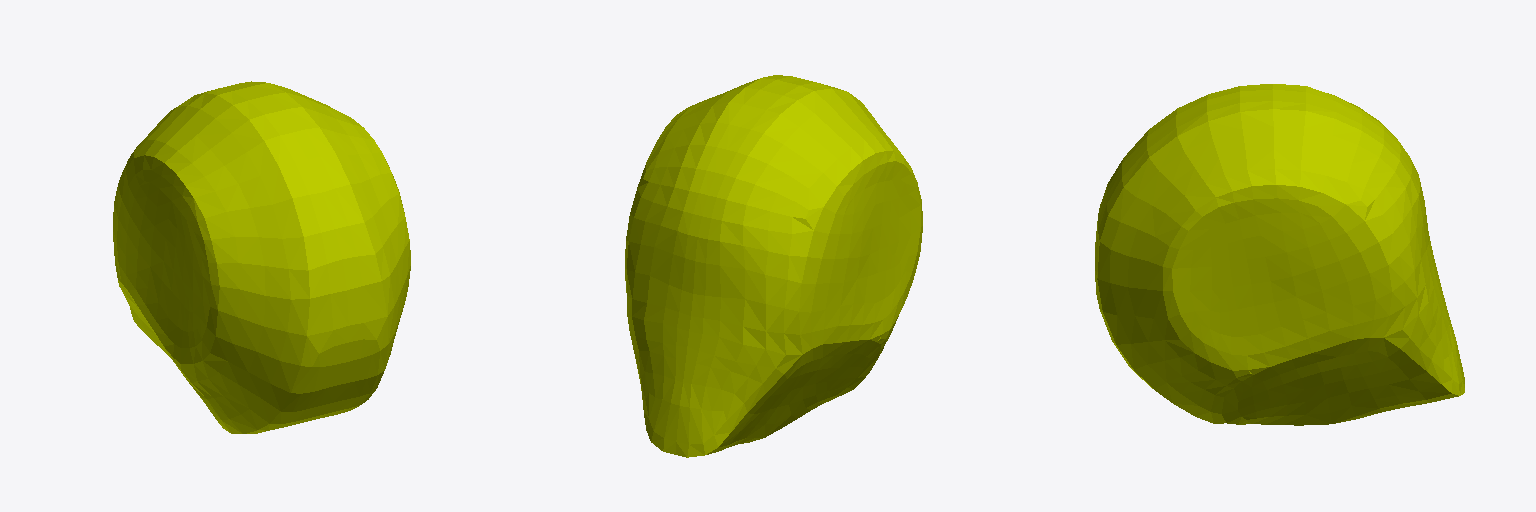
The model's file is Head.obj.
3 renders of one model, left to right at view 1: azimuth 30°, elevation 25°; view 2: azimuth 150°, elevation 25°; view 3: azimuth 270°, elevation 25°, orthographic.
Parts seen in each view (by area): view 1: Head_Alpha_Surface.011; view 2: Head_Alpha_Surface.011; view 3: Head_Alpha_Surface.011.
Boxes of the visible parts, box(x1,y1,x2,y2) form: Head_Alpha_Surface.011: box(113, 81, 410, 433); Head_Alpha_Surface.011: box(625, 75, 922, 457); Head_Alpha_Surface.011: box(1095, 84, 1464, 425).
Bounding box in the file's own units: 0.1601 × 0.2475 × 0.2586.